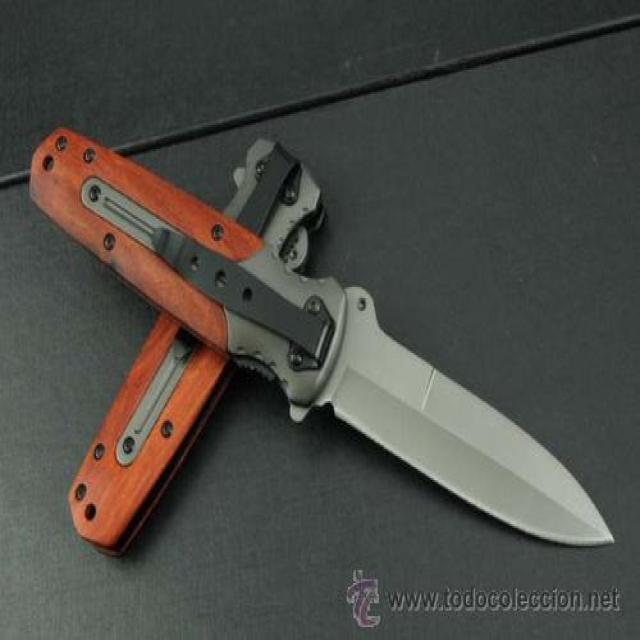knife: (31, 117, 622, 560)
